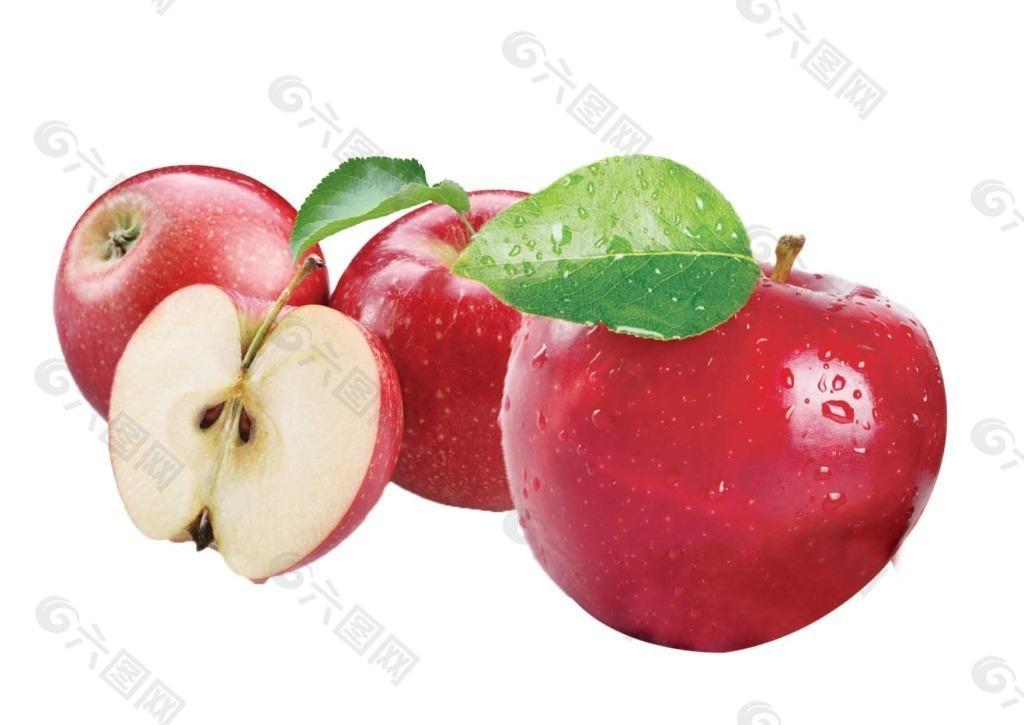apple: (498, 249, 948, 654), (106, 282, 407, 585), (321, 195, 557, 513), (51, 167, 306, 419)
